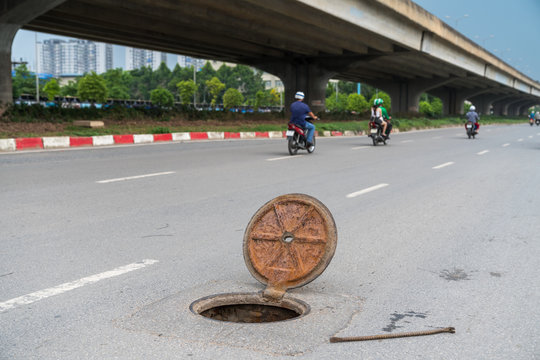open_manhole: (190, 289, 316, 329)
